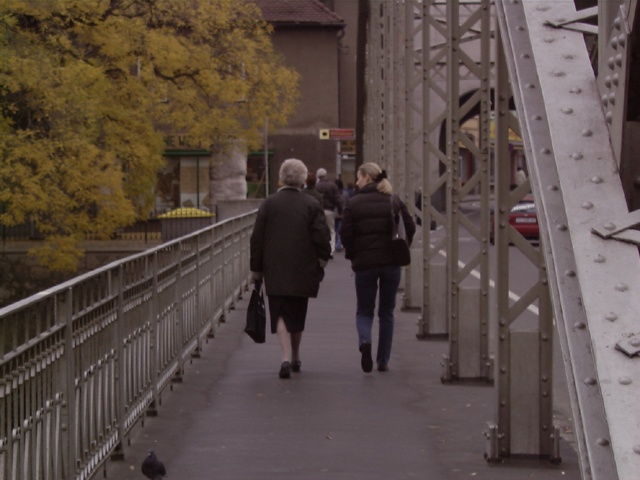person: (244, 156, 329, 382), (345, 159, 413, 372)
